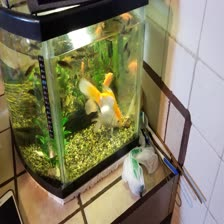Cuezo: (75, 77, 127, 129)
